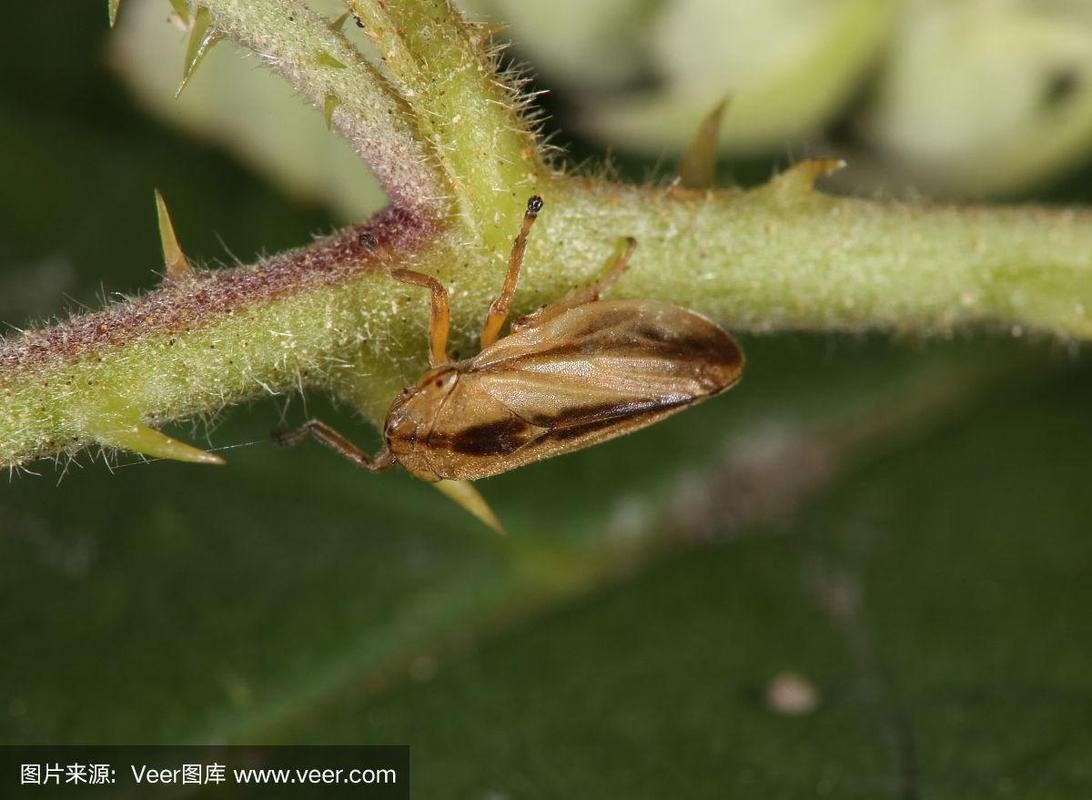Cicadellidae: (270, 195, 746, 483)
